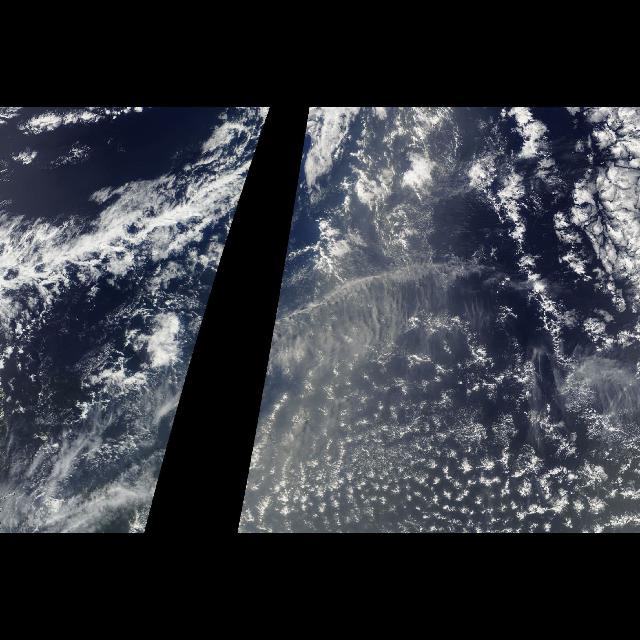Fish: (8, 110, 270, 382), (264, 110, 344, 382)
Flower: (282, 256, 636, 532)
